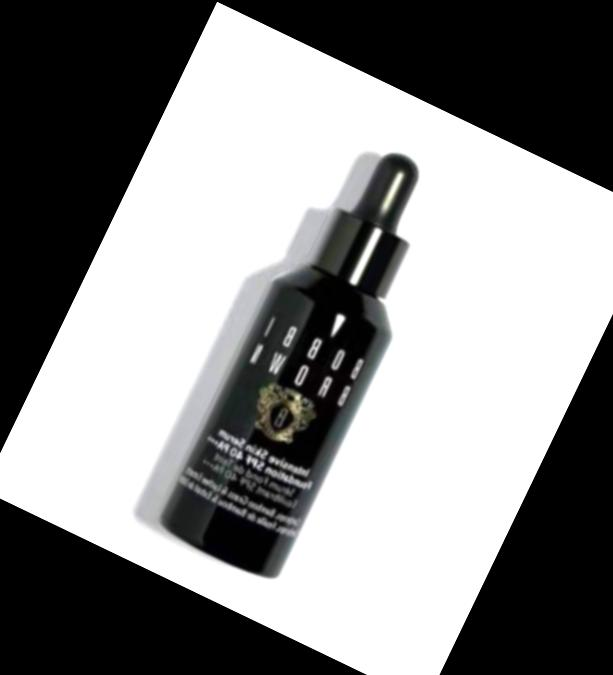cosmetic: (159, 128, 469, 579)
